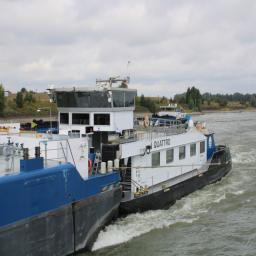tugboat: (33, 75, 235, 220)
